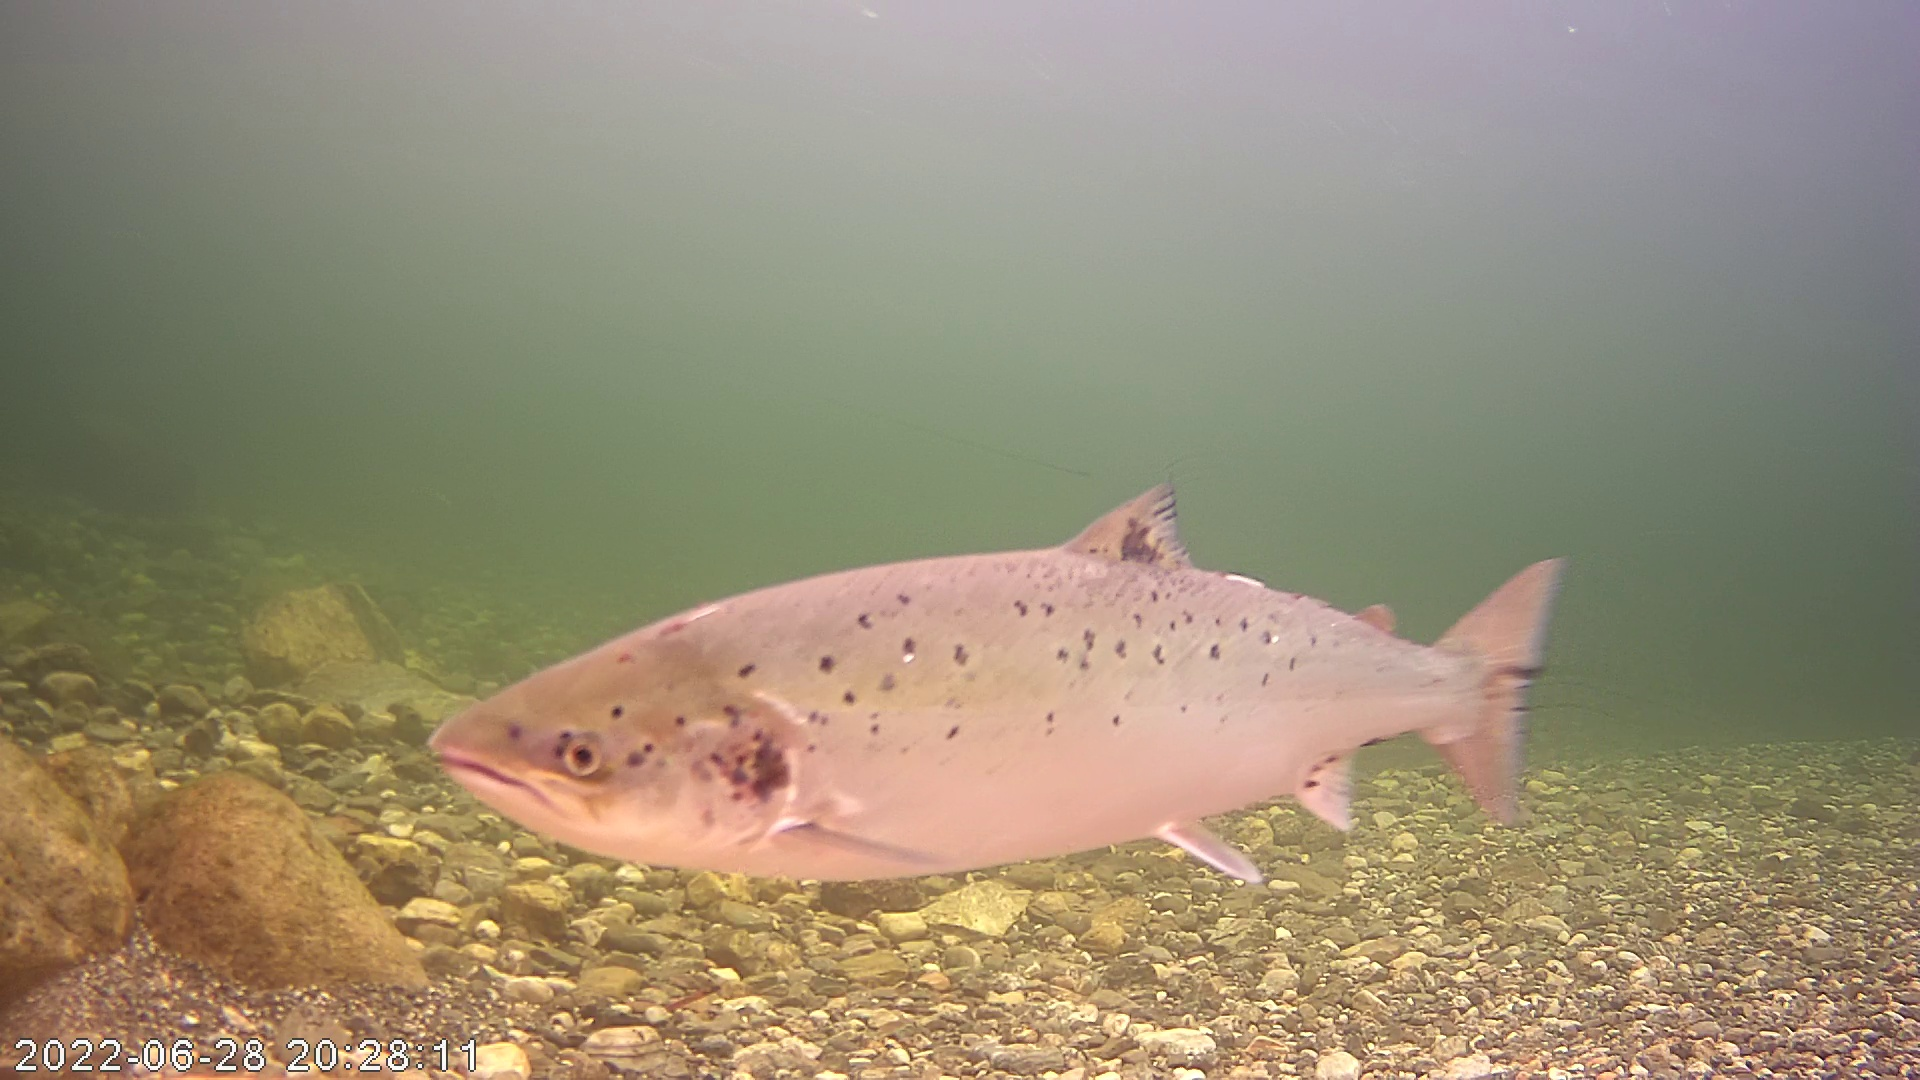salmon: (429, 411, 1575, 901)
